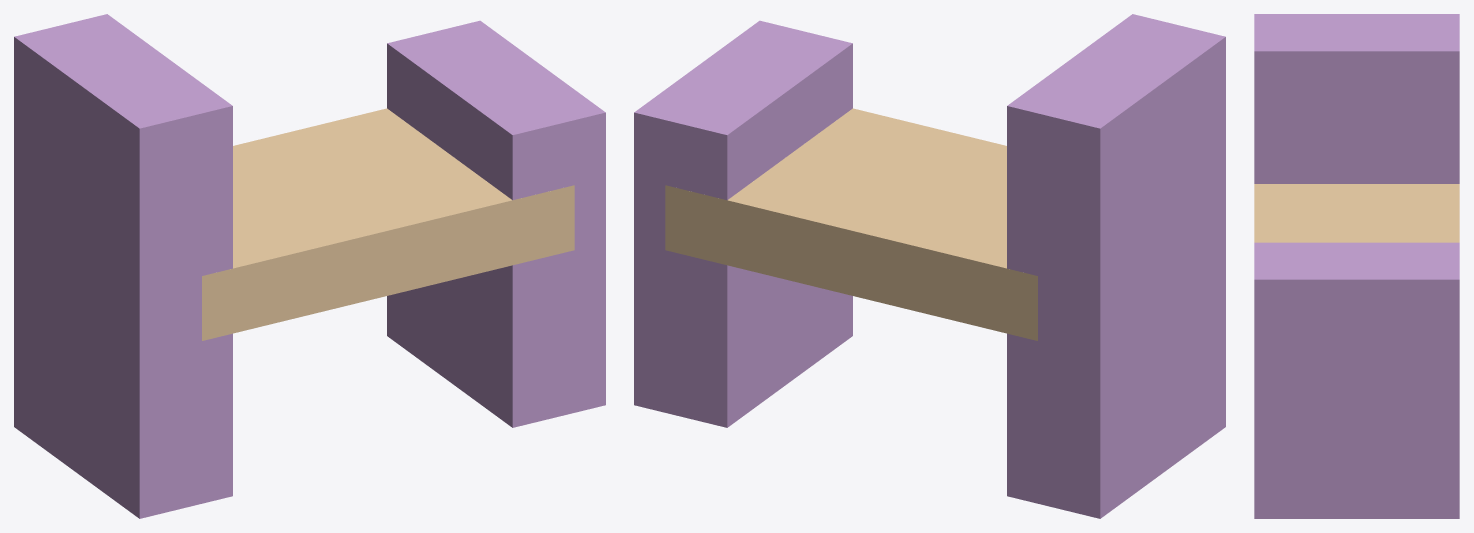
Rendered from alien-biosphere-mineral-roost-26dd91bb__22793.glb.
The picture shows the model from 3 angles, left to right: view 1: azimuth 30°, elevation 25°; view 2: azimuth 150°, elevation 25°; view 3: azimuth 270°, elevation 25°; orthographic projection. The views are drawn at different scales.
Parts seen in each view (by area): view 1: mineral-roost; view 2: mineral-roost; view 3: mineral-roost.
Part boxes in pixels (x1,y1,x2,y2): mineral-roost: (14,14,605,518); mineral-roost: (634,14,1225,518); mineral-roost: (1254,14,1459,518).
Bounding box in the file's own units: 2.7 × 2.16 × 1.26.
